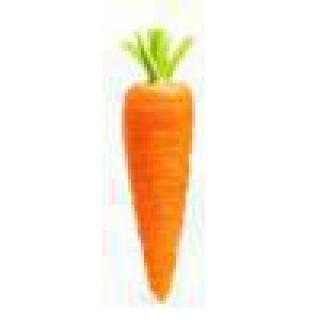Wortel: (87, 17, 241, 305)
